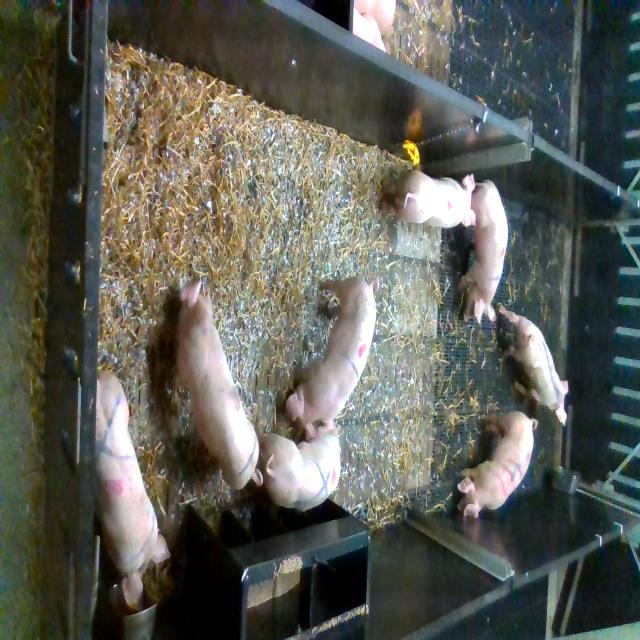pig: (176, 279, 263, 489), (95, 376, 171, 611), (285, 277, 380, 441), (457, 412, 539, 518), (498, 303, 568, 427), (258, 419, 342, 510), (458, 180, 508, 323), (381, 171, 477, 227)
